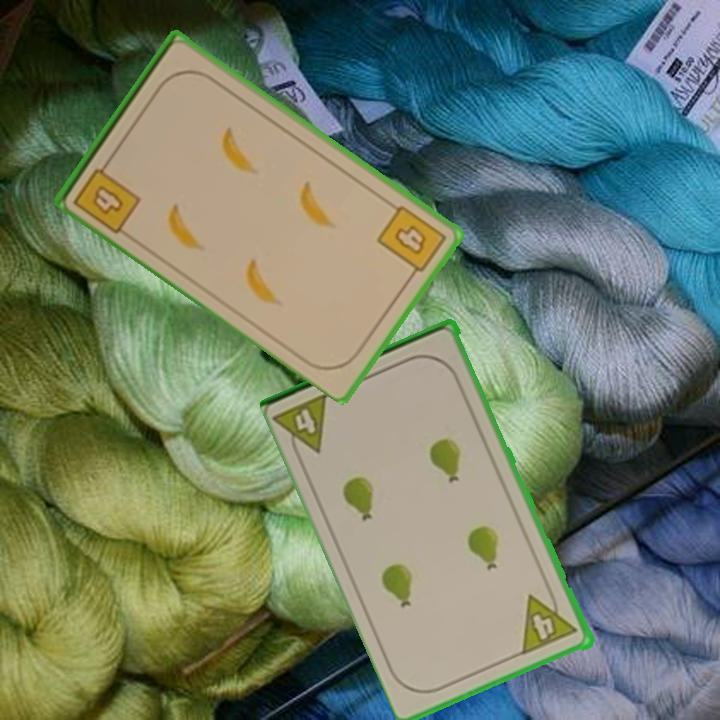4b: (373, 201, 450, 282), (69, 154, 144, 236)
4p: (272, 389, 335, 465), (518, 585, 581, 657)
